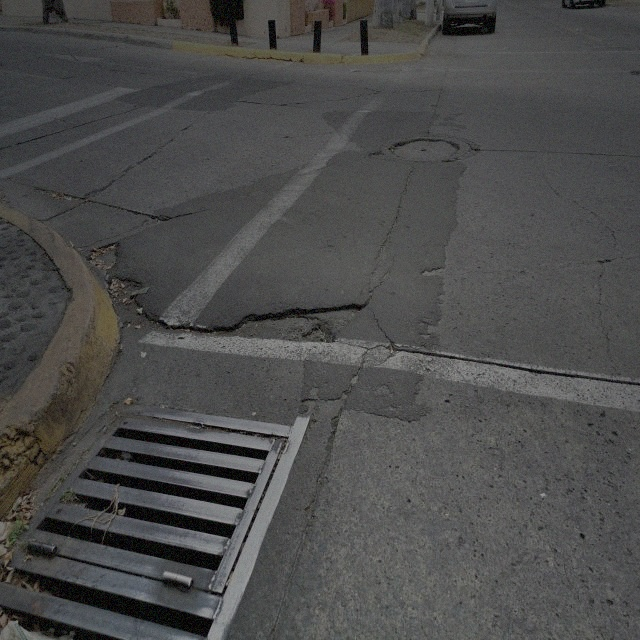pothole: (300, 299, 362, 347), (107, 274, 153, 332), (307, 470, 324, 515), (327, 410, 342, 450), (300, 396, 316, 412)
